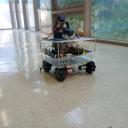cart: (39, 38, 97, 82)
